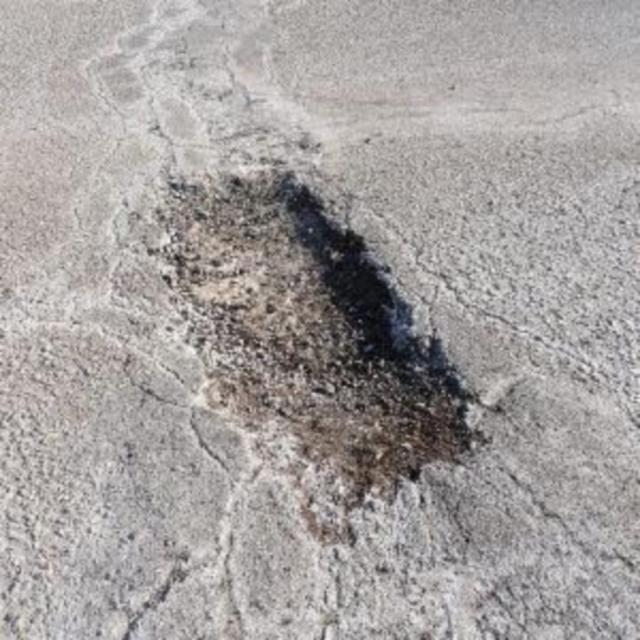pothole: (113, 151, 510, 559)
